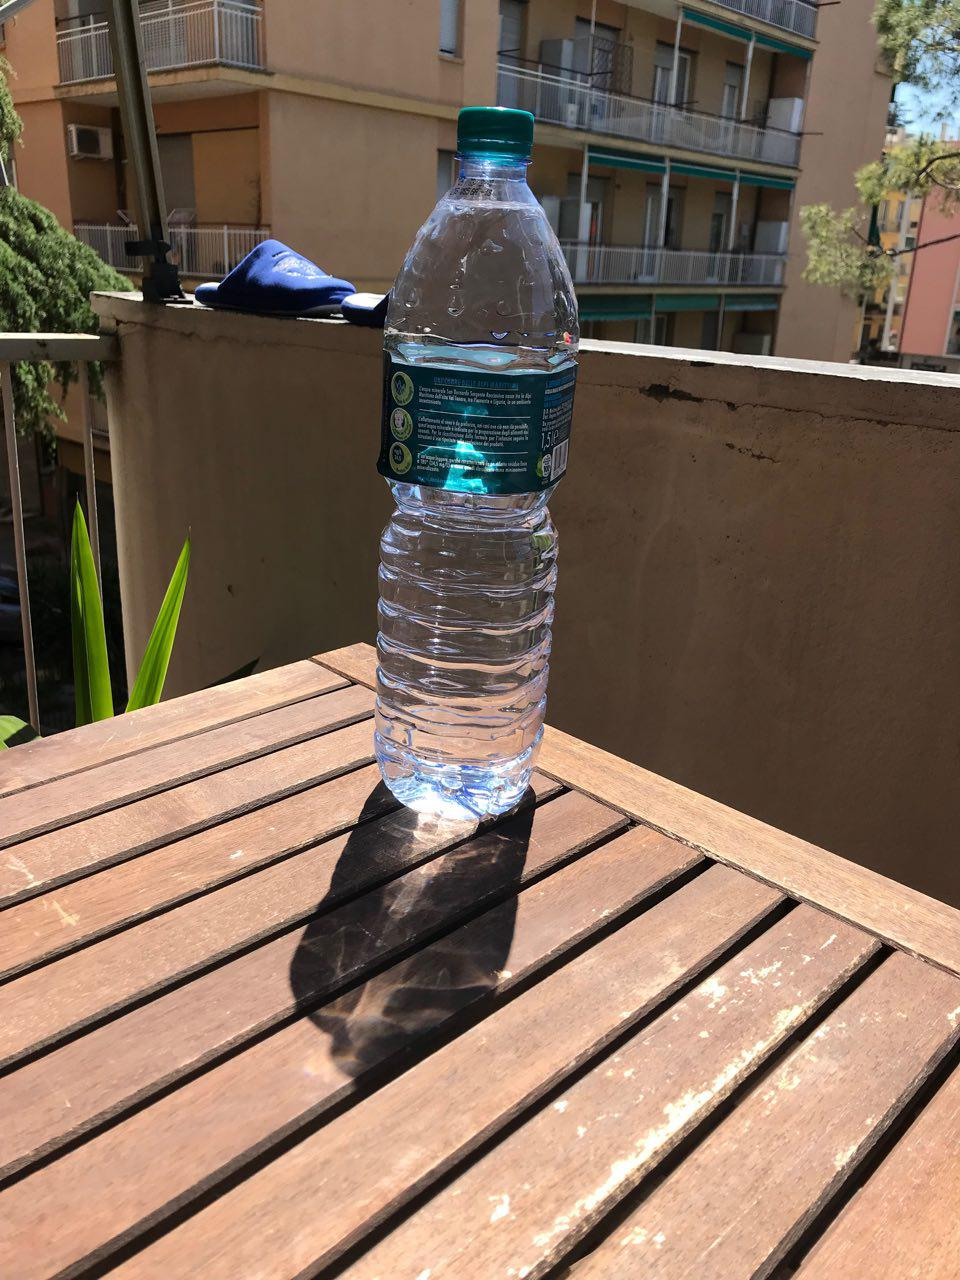san_bernardo: (373, 104, 581, 823)
